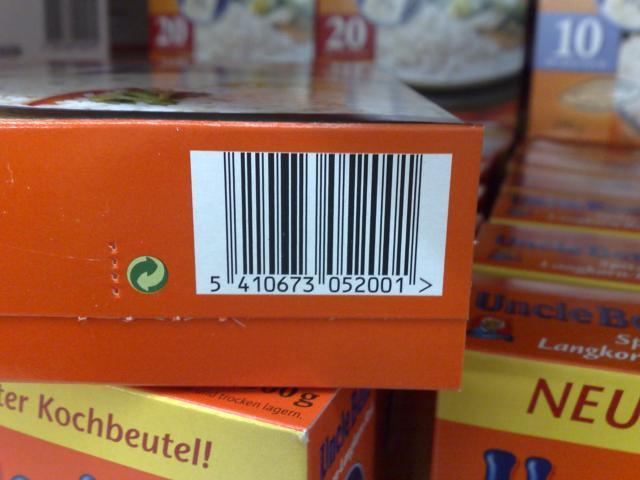Barcode: (202, 151, 437, 298)
